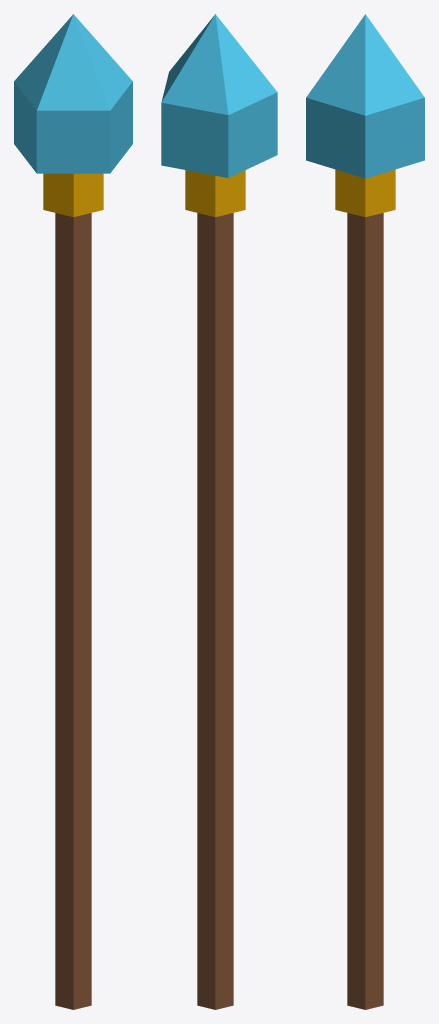
The model's file is cajado.glb.
3 renders of one model, left to right at view 1: azimuth 90°, elevation 25°; view 2: azimuth 210°, elevation 25°; view 3: azimuth 270°, elevation 25°, orthographic.
Parts seen in each view (by area): view 1: cajado; view 2: cajado; view 3: cajado.
Boxes of the visible parts, x1=… form: cajado: x1=14, y1=14, x2=132, y2=1009; cajado: x1=161, y1=14, x2=277, y2=1009; cajado: x1=306, y1=14, x2=424, y2=1009.
Size of the model in its own units: 0.1628 by 1.57 by 0.1712.
